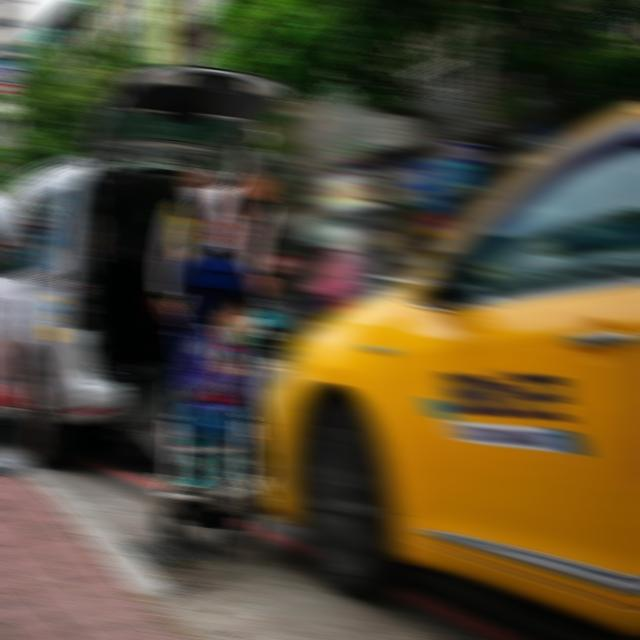Taxi: (265, 104, 640, 634)
